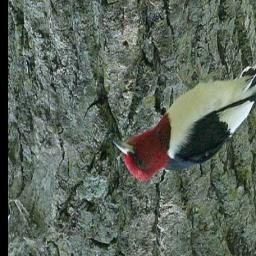Woodpecker: (106, 35, 256, 192)
